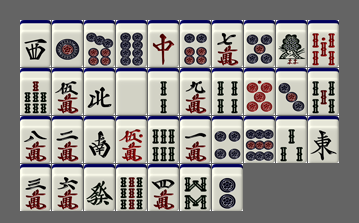0m: (116, 116, 147, 163)
0p: (244, 68, 275, 115)
0s: (308, 20, 339, 67)
1m: (180, 116, 211, 163)
1p: (52, 20, 83, 67)
1s: (276, 20, 307, 67)
1z: (308, 116, 339, 163)
2m: (52, 116, 83, 163)
2p: (212, 164, 243, 211)
2s: (148, 68, 179, 115)
2z: (84, 116, 115, 163)
3m: (20, 164, 51, 211)
3p: (276, 68, 307, 115)
3s: (276, 116, 307, 163)
3z: (20, 20, 51, 67)
4m: (148, 164, 179, 211)
4p: (212, 116, 243, 163)
4s: (212, 68, 243, 115)
4z: (84, 68, 115, 115)
5m: (52, 68, 83, 115)
5p: (244, 20, 275, 67)
5s: (308, 68, 339, 115)
5z: (116, 68, 147, 115)
6m: (52, 164, 83, 211)
6p: (180, 20, 211, 67)
6s: (148, 116, 179, 163)
6z: (84, 164, 115, 211)
7m: (212, 20, 243, 67)
7p: (84, 20, 115, 67)
7s: (20, 68, 51, 115)
7z: (148, 20, 179, 67)
8m: (20, 116, 51, 163)
8p: (116, 20, 147, 67)
8s: (180, 164, 211, 211)
9m: (180, 68, 211, 115)
9p: (244, 116, 275, 163)
9s: (116, 164, 147, 211)
